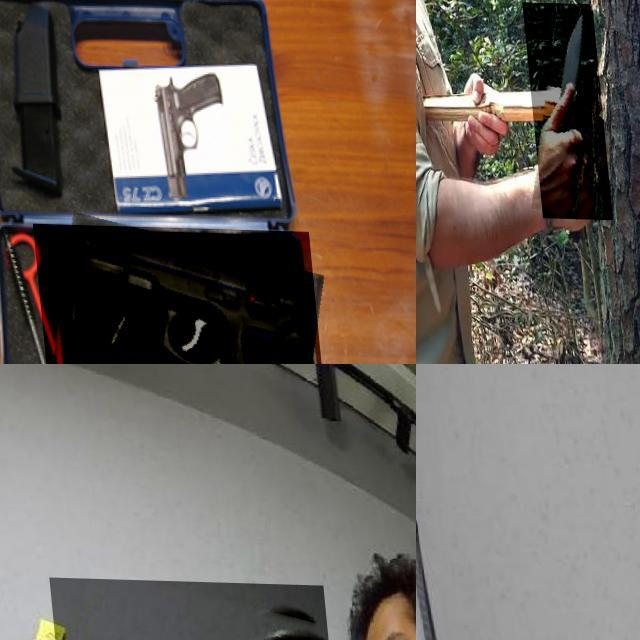-: (42, 575, 336, 640), (517, 0, 604, 217)
gun-knife-thesis - v11 Yolov5 augmented: (26, 222, 322, 364)
